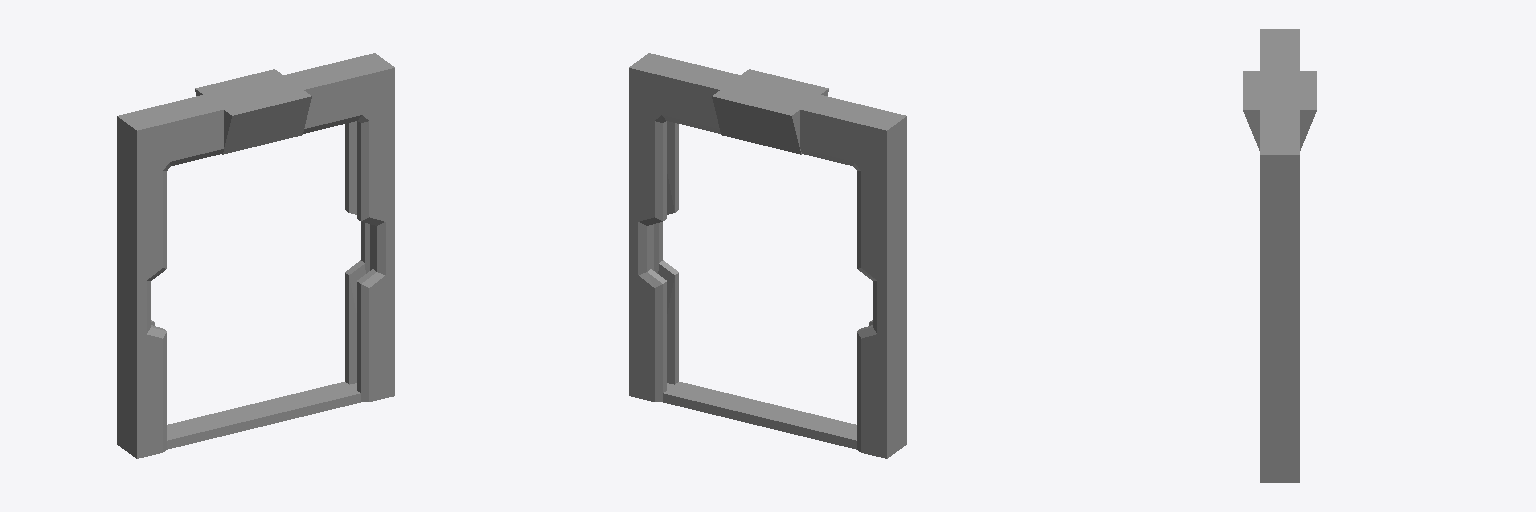
File: doorframe1.obj
3 renders of one model, left to right at view 1: azimuth 30°, elevation 25°; view 2: azimuth 150°, elevation 25°; view 3: azimuth 270°, elevation 25°, orthographic.
Parts seen in each view (by area): view 1: door_c_frame.001; view 2: door_c_frame.001; view 3: door_c_frame.001.
Boxes of the visible parts, x1,y1,x2,y2 form: door_c_frame.001: [117, 53, 394, 458]; door_c_frame.001: [629, 53, 906, 458]; door_c_frame.001: [1243, 29, 1316, 482].
Bounding box in the file's own units: 2.5 × 3.04 × 0.625.